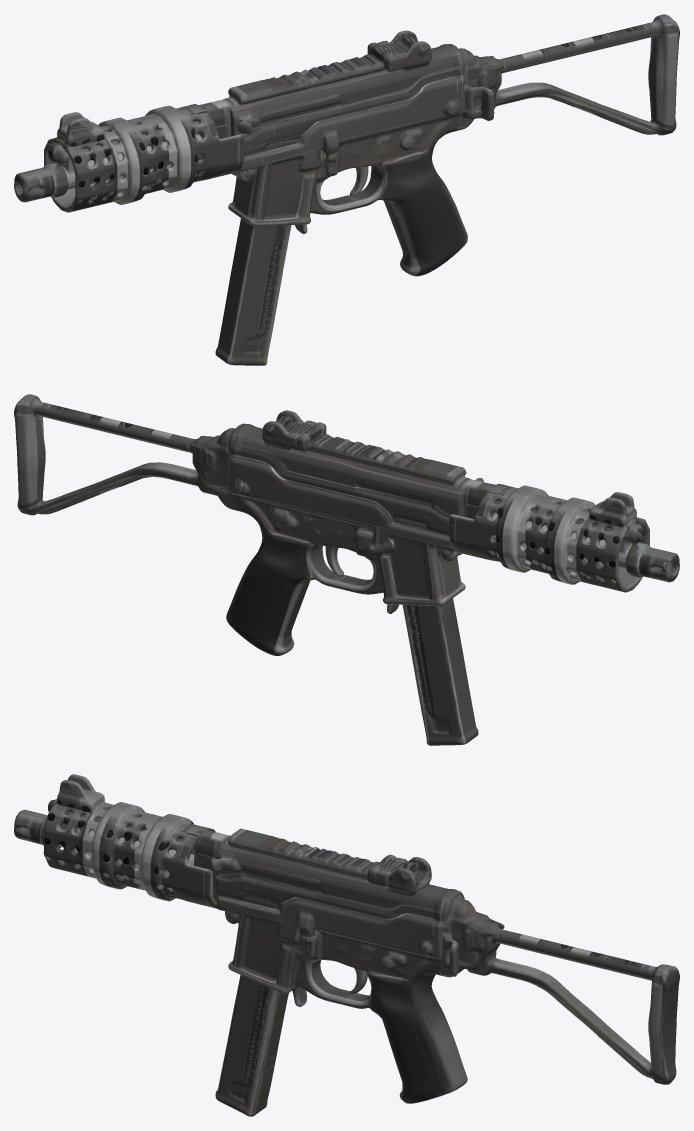
The model's file is mantis.glb.
3 views of the same model, one above another, from view 1: azimuth 30°, elevation 25°; view 2: azimuth 150°, elevation 25°; view 3: azimuth 330°, elevation 25° (orthographic).
Parts seen in each view (by area): view 1: tripo_node_af3ac65d-95a1-4018-8bb4-b9b79faeacb3; view 2: tripo_node_af3ac65d-95a1-4018-8bb4-b9b79faeacb3; view 3: tripo_node_af3ac65d-95a1-4018-8bb4-b9b79faeacb3.
Boxes of the visible parts, x1,y1,x2,y2 form: tripo_node_af3ac65d-95a1-4018-8bb4-b9b79faeacb3: (14,14,679,365); tripo_node_af3ac65d-95a1-4018-8bb4-b9b79faeacb3: (14,394,679,745); tripo_node_af3ac65d-95a1-4018-8bb4-b9b79faeacb3: (14,774,679,1116).
Size of the model in its own units: 1 by 0.4215 by 0.1072.
1 material, 1 textured.
